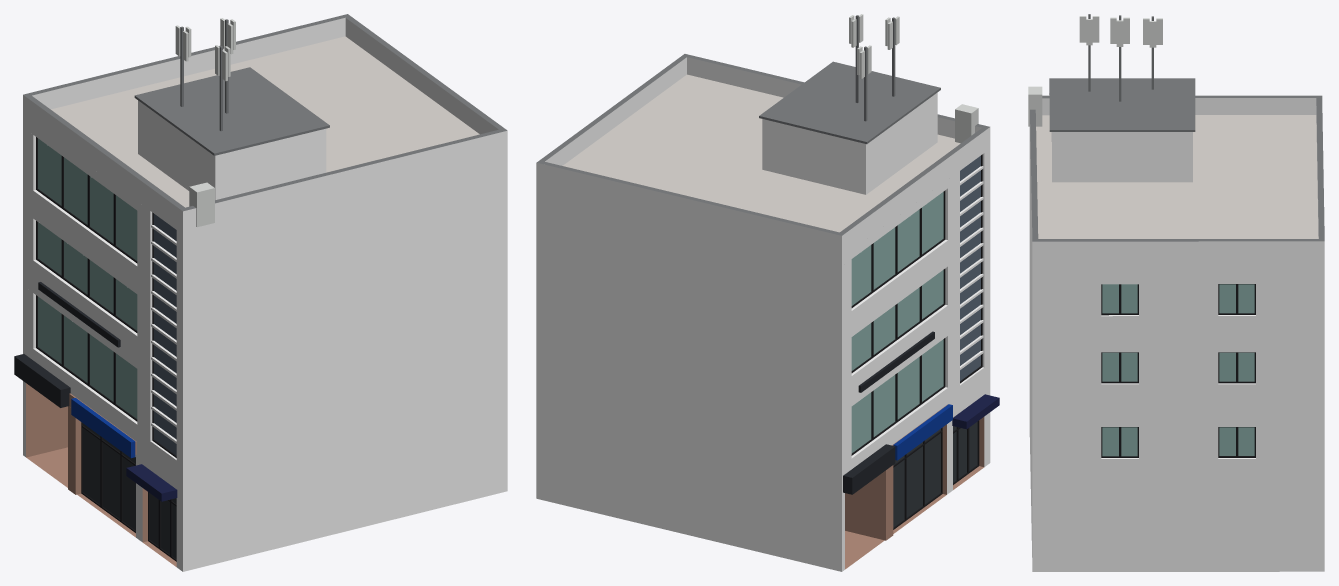
File: einstein116.glb
The picture shows the model from 3 angles, left to right: view 1: azimuth 30°, elevation 25°; view 2: azimuth 150°, elevation 25°; view 3: azimuth 270°, elevation 25°; orthographic projection. The views are drawn at different scales.
Visible parts, largest first — view 1: Einstein116; view 2: Einstein116; view 3: Einstein116.
Part boxes in pixels (left/top/right/bottom): Einstein116: left=14, top=14, right=507, bottom=571; Einstein116: left=536, top=14, right=999, bottom=571; Einstein116: left=1028, top=14, right=1324, bottom=571.
Bounding box in the file's own units: 15.39 × 21.2 × 12.61.
